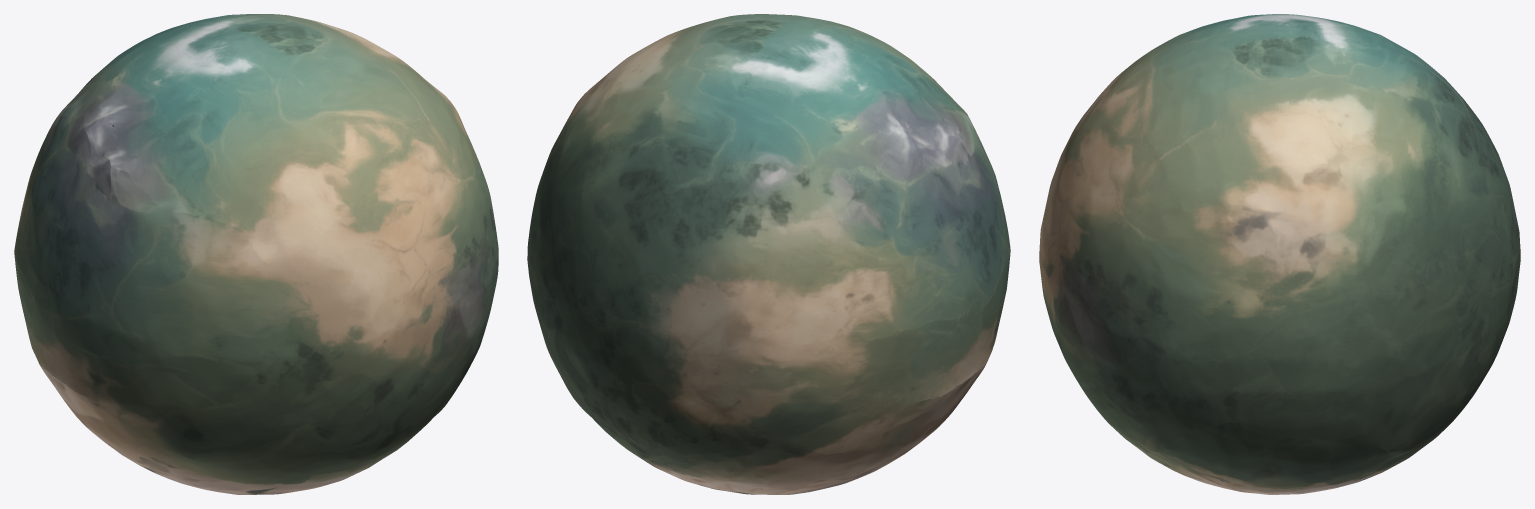
3 views of the same model, side by side, from view 1: azimuth 30°, elevation 25°; view 2: azimuth 150°, elevation 25°; view 3: azimuth 270°, elevation 25° (orthographic).
Parts seen in each view (by area): view 1: world; view 2: world; view 3: world.
Part boxes in pixels (x1,y1,x2,y2): world: [14, 14, 498, 494]; world: [527, 14, 1010, 494]; world: [1039, 14, 1520, 494].
Size of the model in its own units: 1 by 1 by 1.
Materials: 1 (1 with a texture image).
